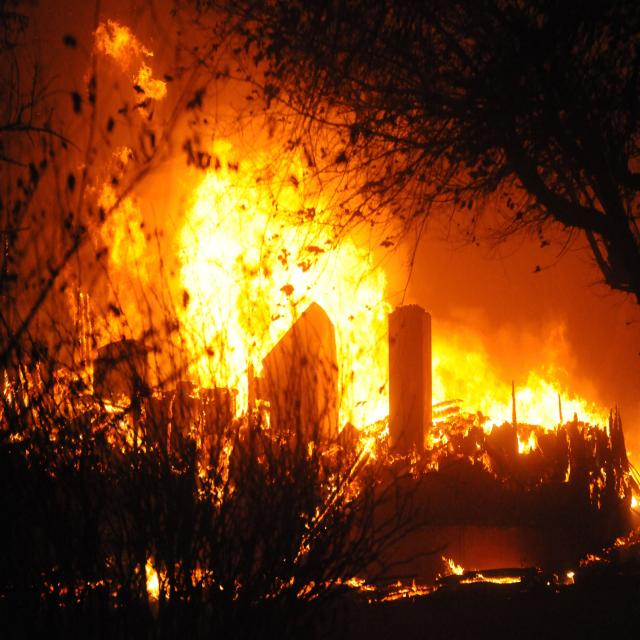Fire: (152, 170, 404, 433), (53, 167, 155, 375), (476, 360, 619, 460), (3, 364, 138, 448), (294, 428, 362, 566), (92, 16, 182, 108), (188, 443, 246, 514), (430, 366, 451, 441), (182, 557, 226, 592), (338, 567, 378, 599), (464, 569, 524, 590), (144, 558, 174, 598), (439, 550, 472, 580), (620, 471, 640, 515), (296, 571, 319, 602)
